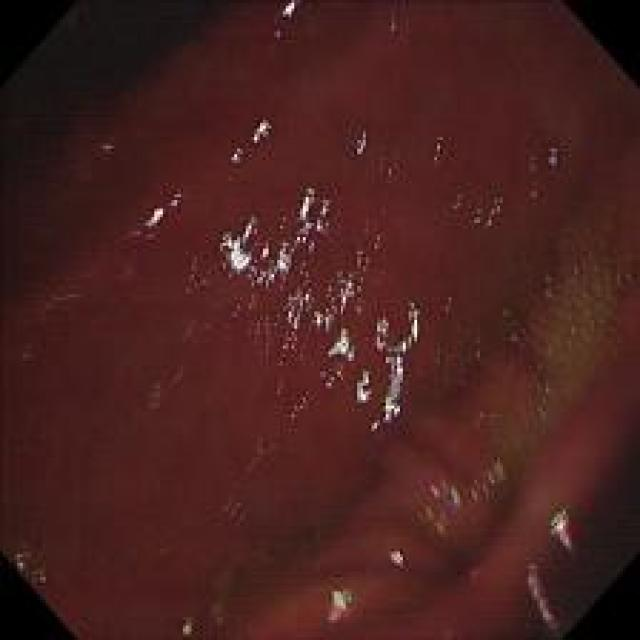blur: (42, 44, 628, 596)
bubbles: (522, 238, 626, 399)
color misalignment: (220, 184, 330, 359), (375, 300, 421, 431), (222, 121, 284, 174), (331, 266, 356, 381), (449, 180, 502, 229), (525, 572, 568, 624), (5, 545, 50, 592), (185, 249, 228, 298), (421, 479, 461, 530), (306, 585, 362, 621), (469, 461, 506, 500), (552, 505, 584, 548), (384, 541, 415, 579), (355, 245, 371, 315), (248, 434, 276, 474), (375, 144, 400, 184), (381, 5, 404, 45), (129, 201, 165, 226), (350, 129, 374, 161), (428, 128, 448, 165), (356, 369, 375, 405), (172, 609, 199, 634), (272, 5, 292, 38), (525, 154, 539, 199), (220, 495, 242, 518), (290, 392, 308, 419), (44, 292, 81, 304), (149, 380, 164, 409), (545, 142, 560, 170), (320, 366, 336, 392), (472, 332, 484, 362), (510, 315, 521, 345), (99, 134, 118, 151), (168, 189, 182, 211), (170, 362, 185, 382), (182, 318, 195, 338), (359, 215, 371, 236), (440, 294, 452, 312), (371, 231, 381, 252), (539, 286, 554, 300), (474, 409, 485, 428), (468, 562, 480, 578), (582, 305, 590, 319)
contrast: (6, 4, 222, 306)
